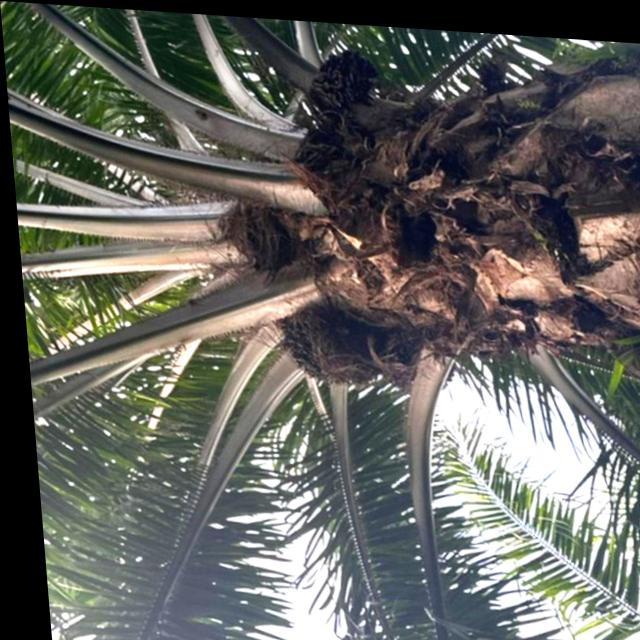unripe: (263, 295, 395, 388)
